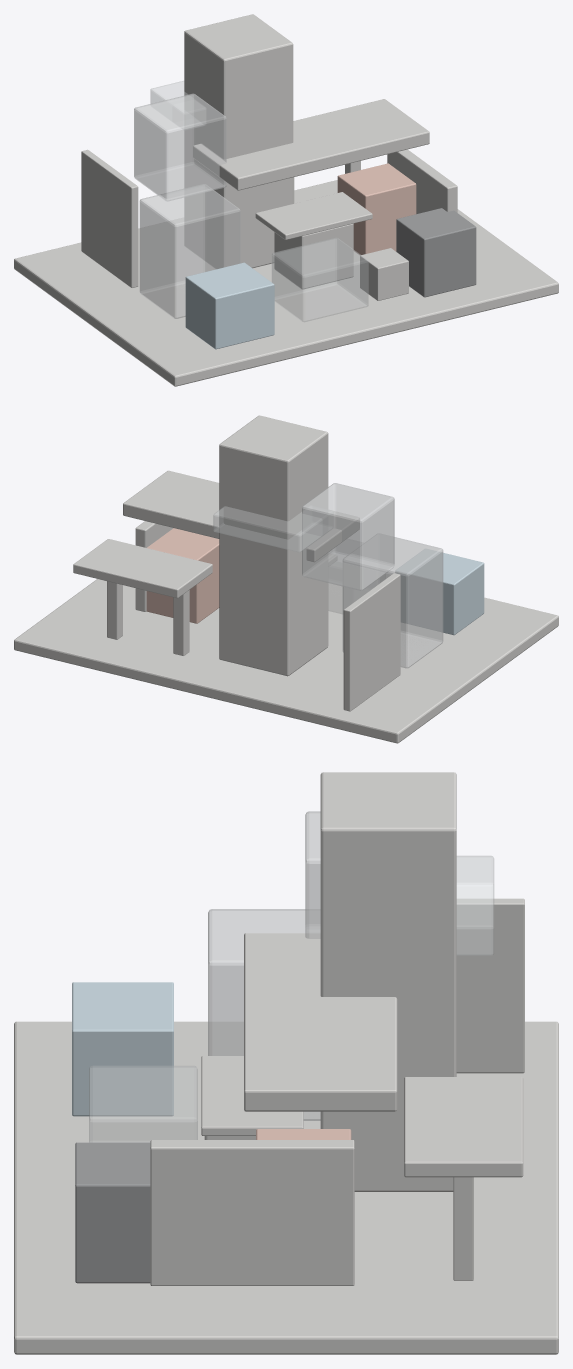
File: architecture.glb
The picture shows the model from 3 angles, top to bottom: view 1: azimuth 30°, elevation 25°; view 2: azimuth 150°, elevation 25°; view 3: azimuth 270°, elevation 25°; orthographic projection. The views are drawn at different scales.
Parts seen in each view (by area): view 1: Base, Tower, SpanSlab, AcrylicFrosted, AcrylicFrostedTall, AcrylicClear, AccentBlue, FinWall, AccentCharcoal, AccentTerracotta, CourtBlock, SlabThin (+3 smaller); view 2: Base, Tower, AcrylicFrostedTall, AcrylicFrosted, FinWall, AccentBlue, SpanSlab, Cantilever, GlassCanopy, AccentTerracotta, PilotisA, ThinWall (+2 smaller); view 3: Base, Tower, ThinWall, SpanSlab, AccentBlue, FinWall, Cantilever, AccentCharcoal, AcrylicClear, AcrylicFrosted, SlabThin, GlassCanopy (+3 smaller).
Boxes of the visible parts, left/top/right/bottom form: Base: left=14, top=180, right=558, bottom=386; Tower: left=184, top=14, right=293, bottom=268; SpanSlab: left=193, top=99, right=429, bottom=190; AcrylicFrosted: left=139, top=184, right=240, bottom=318; AcrylicFrostedTall: left=134, top=93, right=226, bottom=201; AcrylicClear: left=271, top=237, right=368, bottom=321; AccentBlue: left=185, top=262, right=274, bottom=349; FinWall: left=81, top=149, right=138, bottom=287; AccentCharcoal: left=396, top=208, right=476, bottom=297; AccentTerracotta: left=337, top=163, right=416, bottom=255; CourtBlock: left=274, top=223, right=353, bottom=289; SlabThin: left=255, top=192, right=372, bottom=239; Base: left=14, top=574, right=558, bottom=743; Tower: left=219, top=415, right=328, bottom=676; AcrylicFrostedTall: left=302, top=483, right=394, bottom=590; AcrylicFrosted: left=342, top=534, right=443, bottom=668; FinWall: left=343, top=573, right=400, bottom=711; AccentBlue: left=395, top=549, right=484, bottom=635; SpanSlab: left=123, top=470, right=359, bottom=562; Cantilever: left=73, top=539, right=212, bottom=598; GlassCanopy: left=213, top=506, right=333, bottom=552; AccentTerracotta: left=146, top=528, right=219, bottom=623; PilotisA: left=173, top=590, right=189, bottom=655; ThinWall: left=135, top=521, right=173, bottom=611; Base: left=14, top=1021, right=558, bottom=1354; Tower: left=320, top=772, right=456, bottom=1191; ThinWall: left=150, top=1140, right=354, bottom=1285; SpanSlab: left=244, top=933, right=397, bottom=1111; AccentBlue: left=72, top=982, right=173, bottom=1116; FinWall: left=456, top=898, right=524, bottom=1073; Cantilever: left=404, top=1077, right=523, bottom=1177; AccentCharcoal: left=75, top=1142, right=150, bottom=1283; AcrylicClear: left=89, top=1065, right=197, bottom=1142; AcrylicFrosted: left=208, top=909, right=320, bottom=1120; SlabThin: left=201, top=1056, right=303, bottom=1135; GlassCanopy: left=456, top=855, right=494, bottom=955.
Size of the model in its own units: 0.22 by 0.124 by 0.16.
